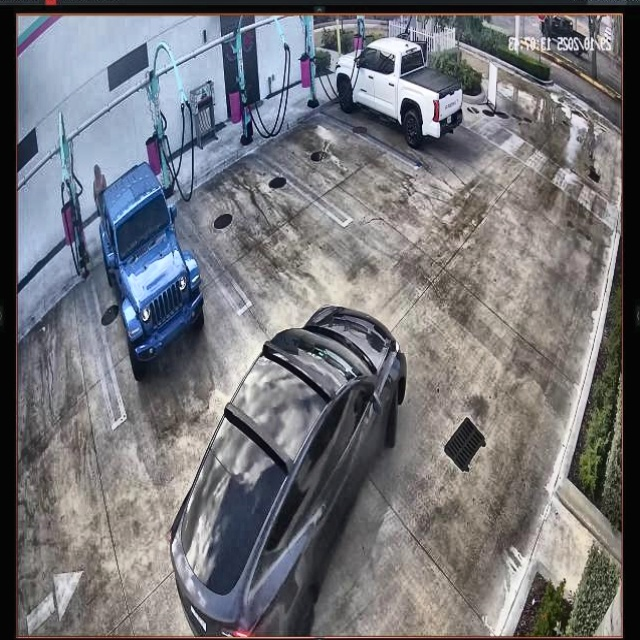Car: (170, 292, 402, 639), (96, 163, 201, 378)
